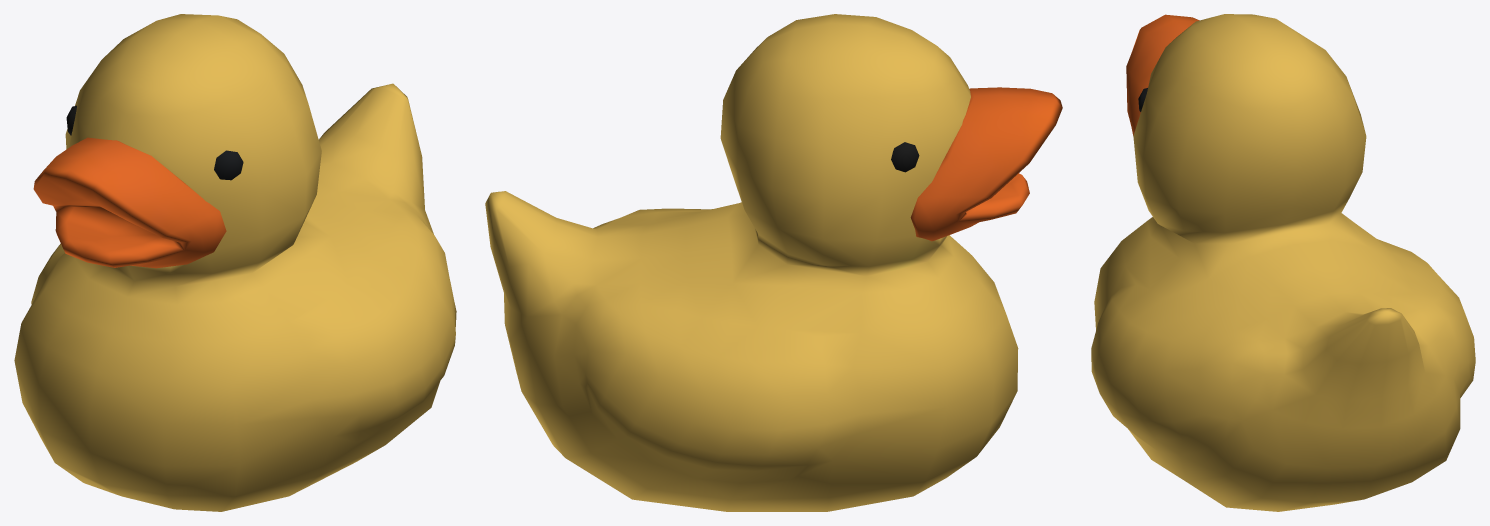
The picture shows the model from 3 angles, left to right: view 1: azimuth 30°, elevation 25°; view 2: azimuth 150°, elevation 25°; view 3: azimuth 270°, elevation 25°; orthographic projection. The views are drawn at different scales.
Size of the model in its own units: 4.62 by 4.33 by 3.65.
1 material, 1 textured.
